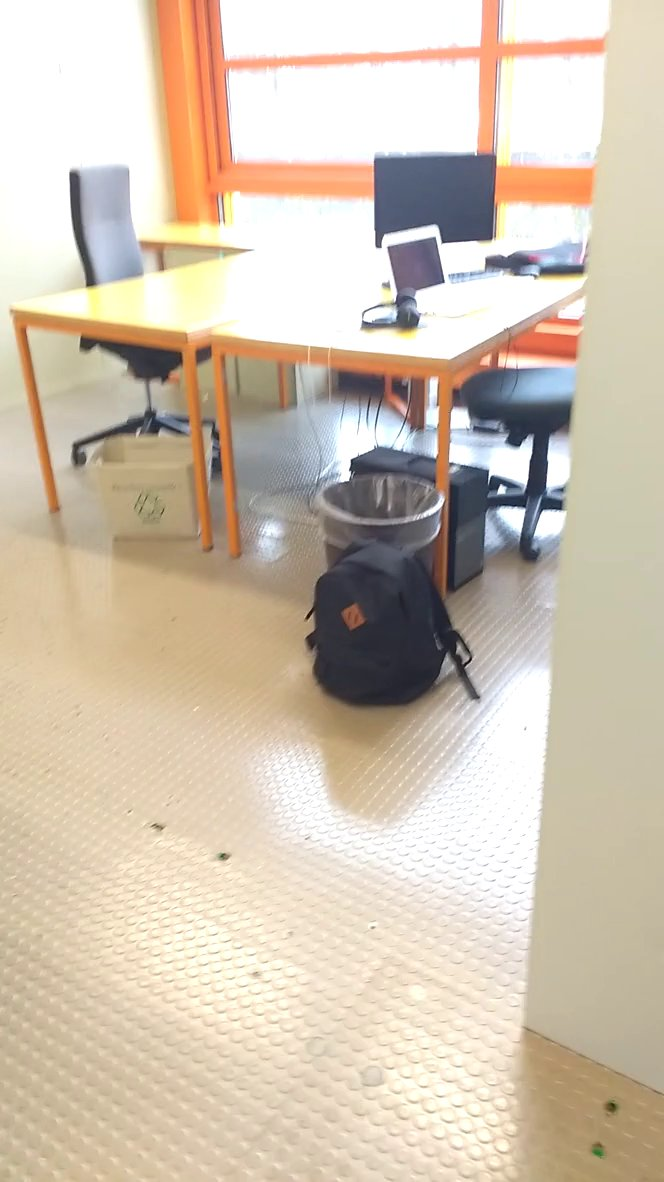bag: (299, 531, 486, 712)
bin: (305, 464, 455, 557)
box: (82, 426, 226, 555)
chair: (66, 151, 229, 462)
laptop: (377, 214, 516, 331)
